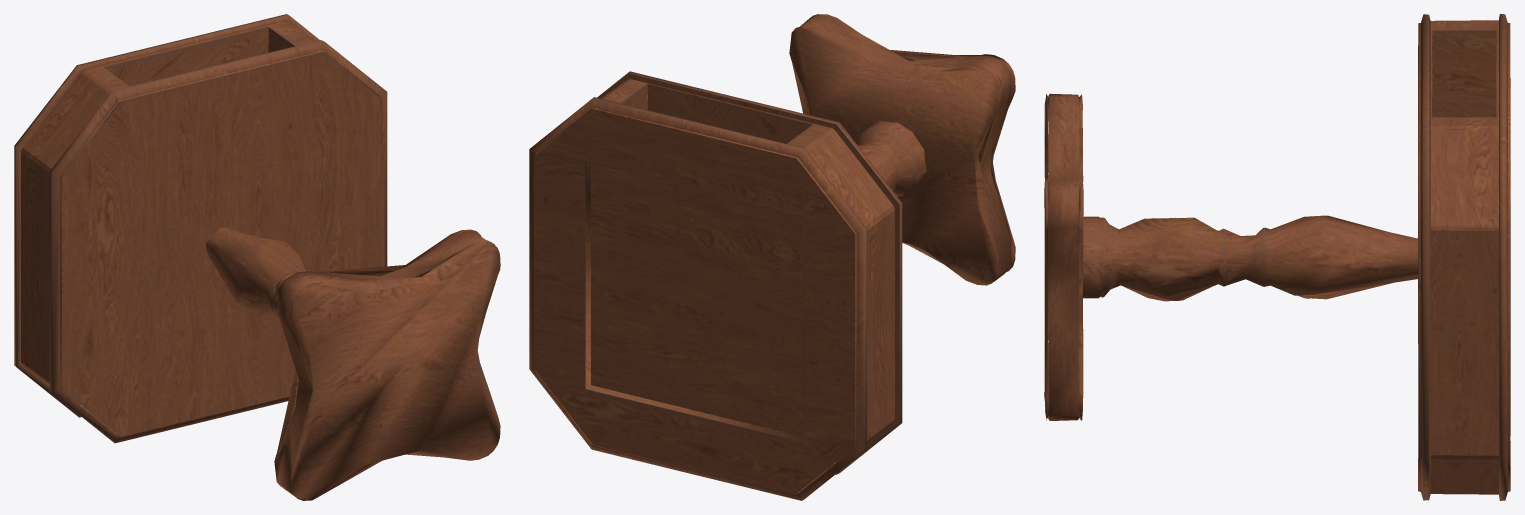
File: Pedestal.glb
The picture shows the model from 3 angles, left to right: view 1: azimuth 30°, elevation 25°; view 2: azimuth 150°, elevation 25°; view 3: azimuth 270°, elevation 25°; orthographic projection. The views are drawn at different scales.
Parts seen in each view (by area): view 1: Pedestal; view 2: Pedestal; view 3: Pedestal.
Boxes of the visible parts, <box> form: Pedestal: <box>14,14,500,500</box>; Pedestal: <box>529,14,1015,500</box>; Pedestal: <box>1044,14,1510,500</box>.
Bounding box in the file's own units: 0.7093 × 0.7193 × 0.7958.
Materials: 1 (1 with a texture image).
